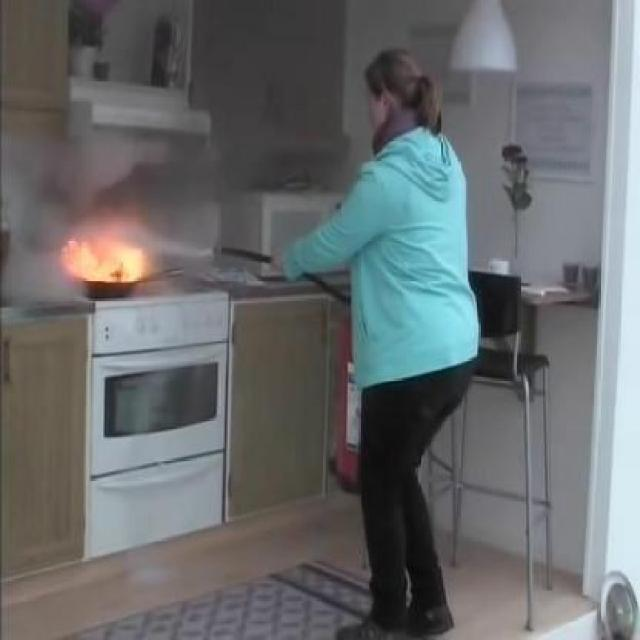fire: (48, 186, 178, 280)
